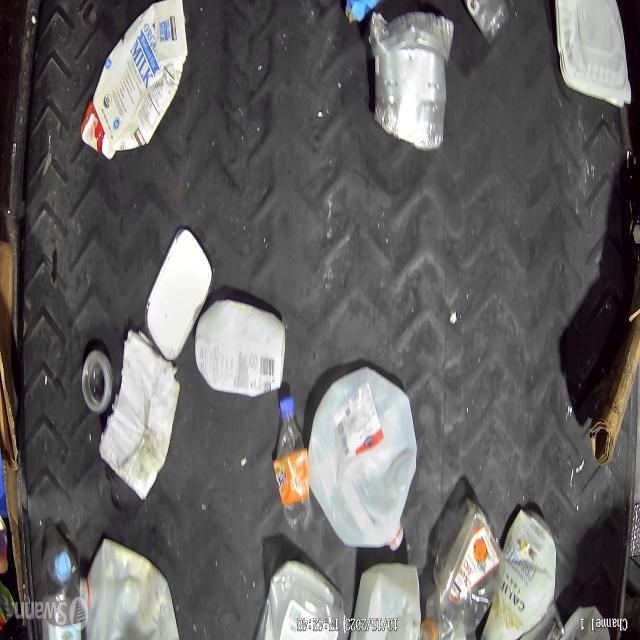milk_jug: (304, 363, 414, 551), (78, 538, 184, 640), (348, 560, 420, 640)
plastic_bottle: (272, 392, 318, 536), (38, 537, 88, 640)
